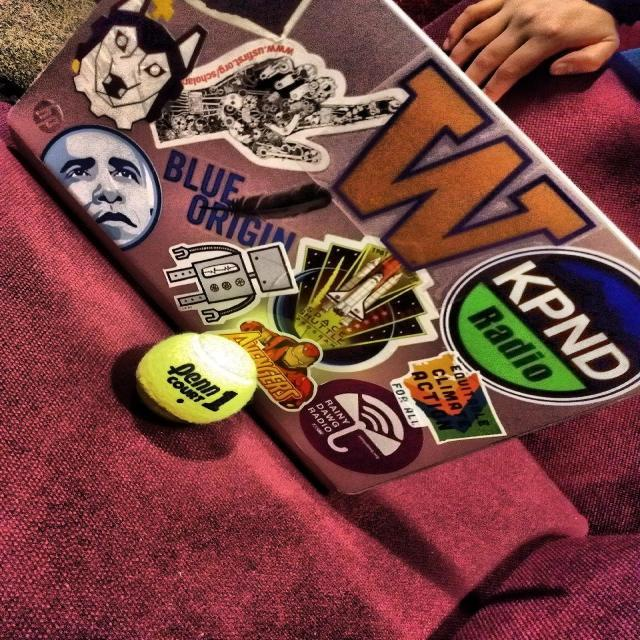tennis-ball: (133, 332, 267, 433)
